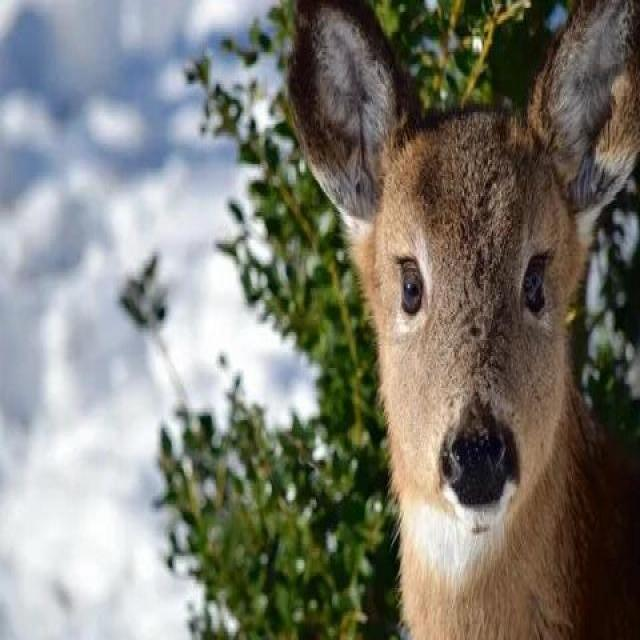deer: (281, 37, 640, 616)
